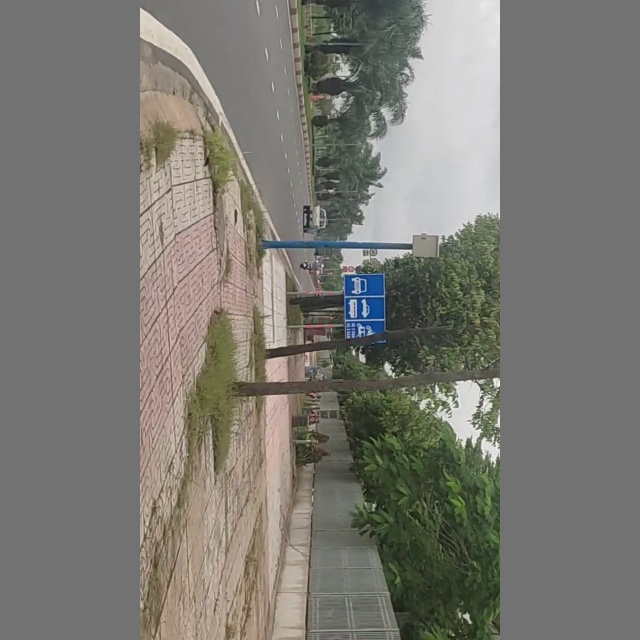R.415a: (340, 270, 387, 343)
